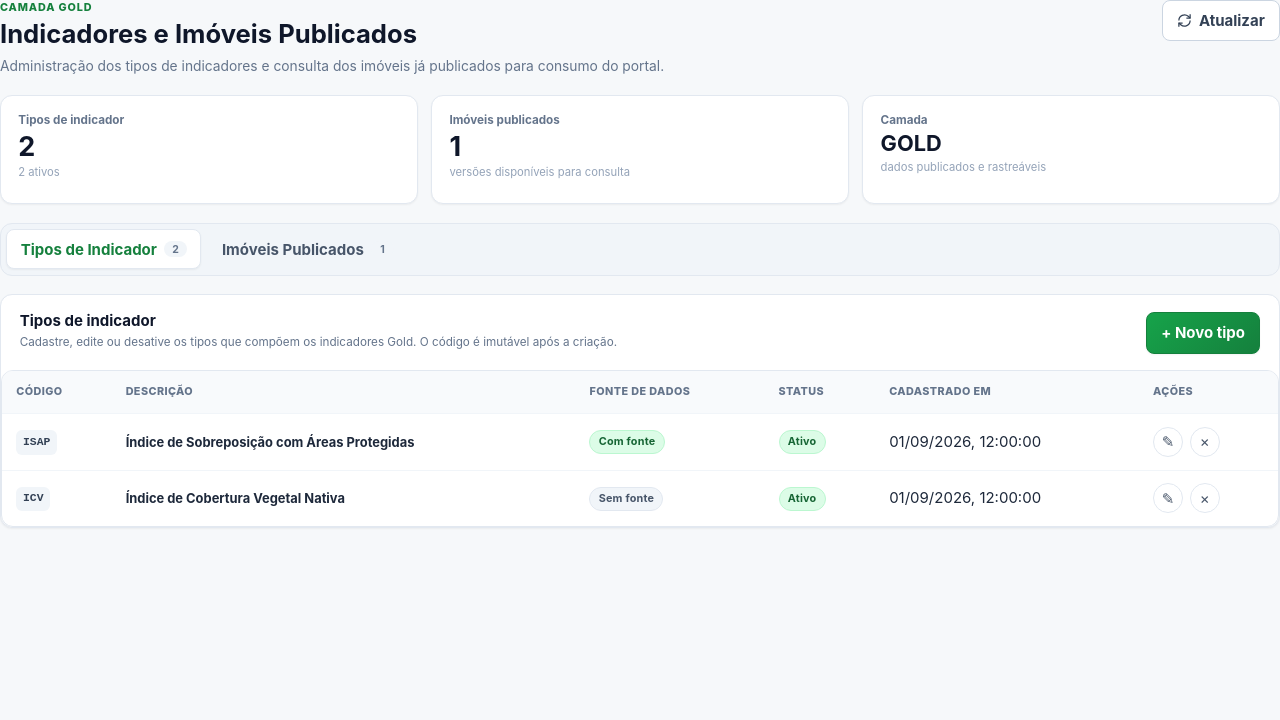
Test: GoldView › abre o modal de cadastro pelo botão Novo tipo
Click the button with class "botao-principal--compacto" at (1203, 333), box [1146,312,1260,354]
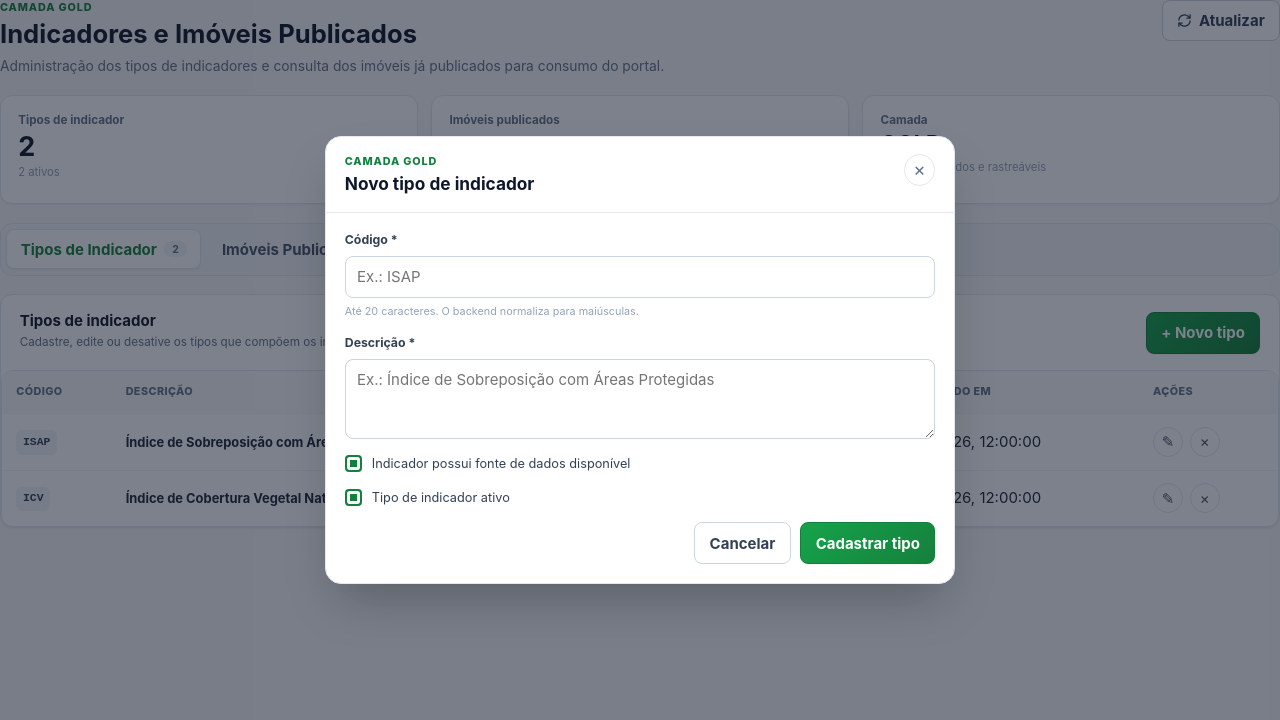
Check: the form with id "form-tipo-indicador" is shown, box [326,213,954,583]
Check: the field with id "input-codigo" is empty, box [345,256,935,298]
Check: the text box with id "input-descricao" is empty, box [345,359,935,439]
